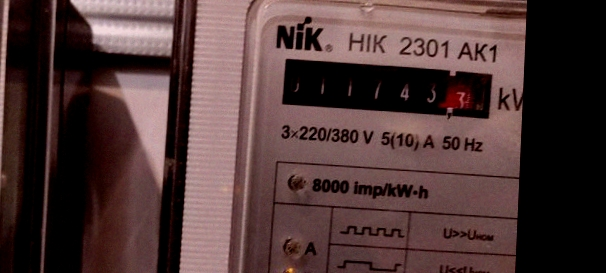0: (287, 67, 302, 95)
1: (314, 68, 329, 97), (342, 70, 356, 99)
3: (423, 78, 438, 106), (452, 89, 468, 111)
4: (397, 78, 412, 103)
7: (369, 75, 384, 100)
screen: (273, 52, 502, 126)
